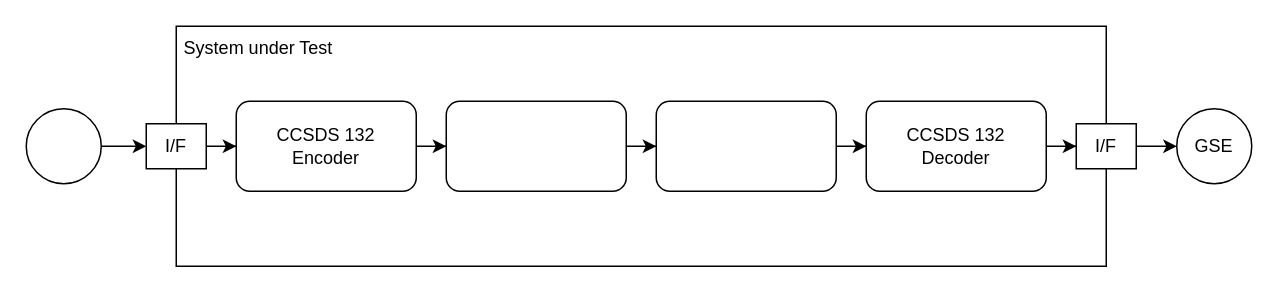
The diagram is 1278 pixels wide and 293 high, and some of its shapes have lost their labels. The centre of each missing label's shape, as x and y in pixels:
"CCSDS 131 Decoder" goes at pixel 745 145.
"CCSDS 131 Encoder" goes at pixel 535 145.
"OBC" goes at pixel 63 145.
